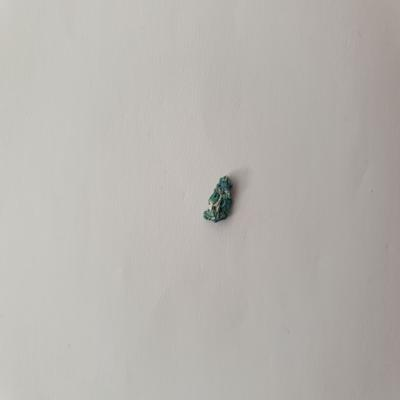plastic: (200, 173, 238, 225)
